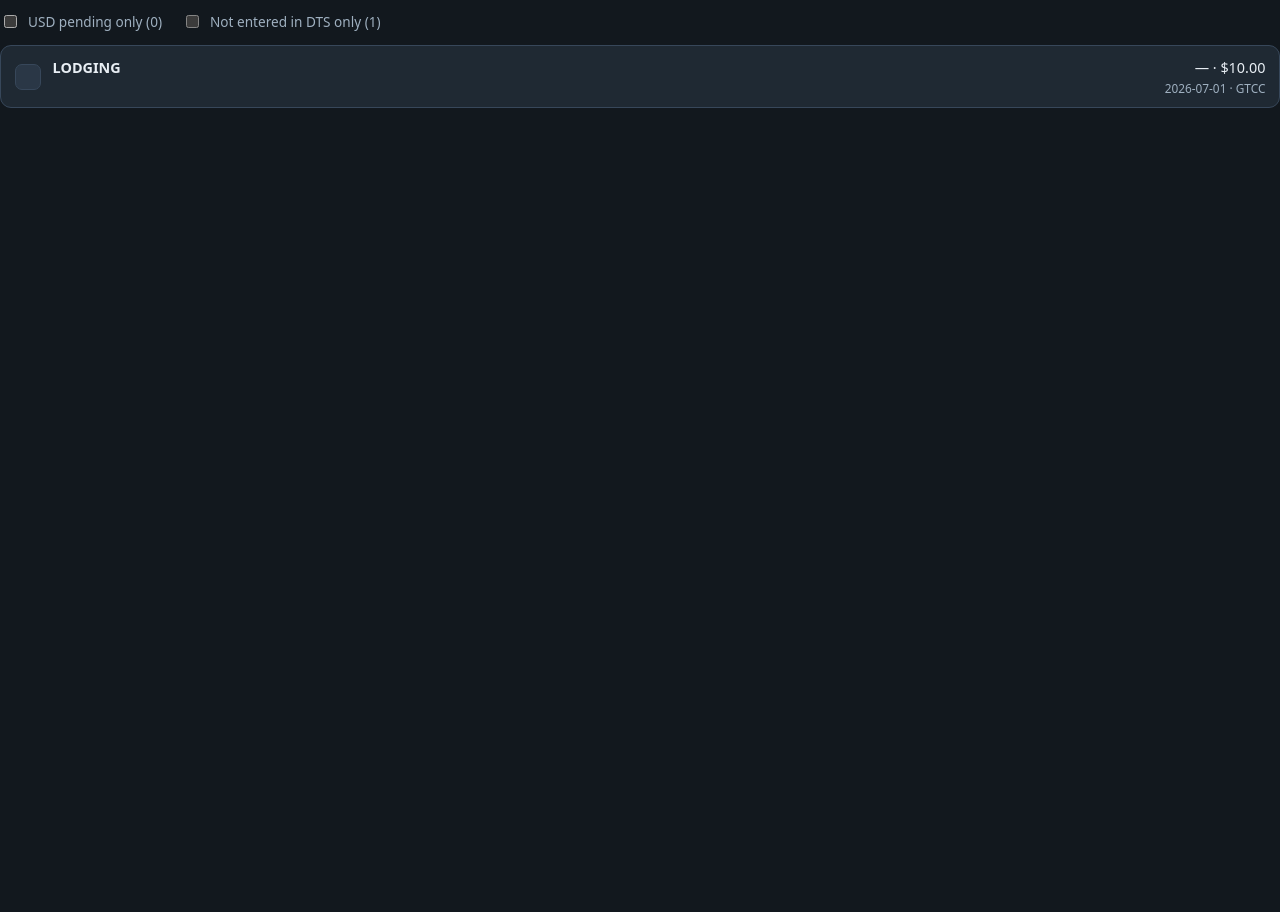
ExpenseList — entered-in-DTS › opens the editor when the row body is clicked
The image size is (1280, 912).
Click the text "LODGING" at [87, 67], box [53,58,121,77]
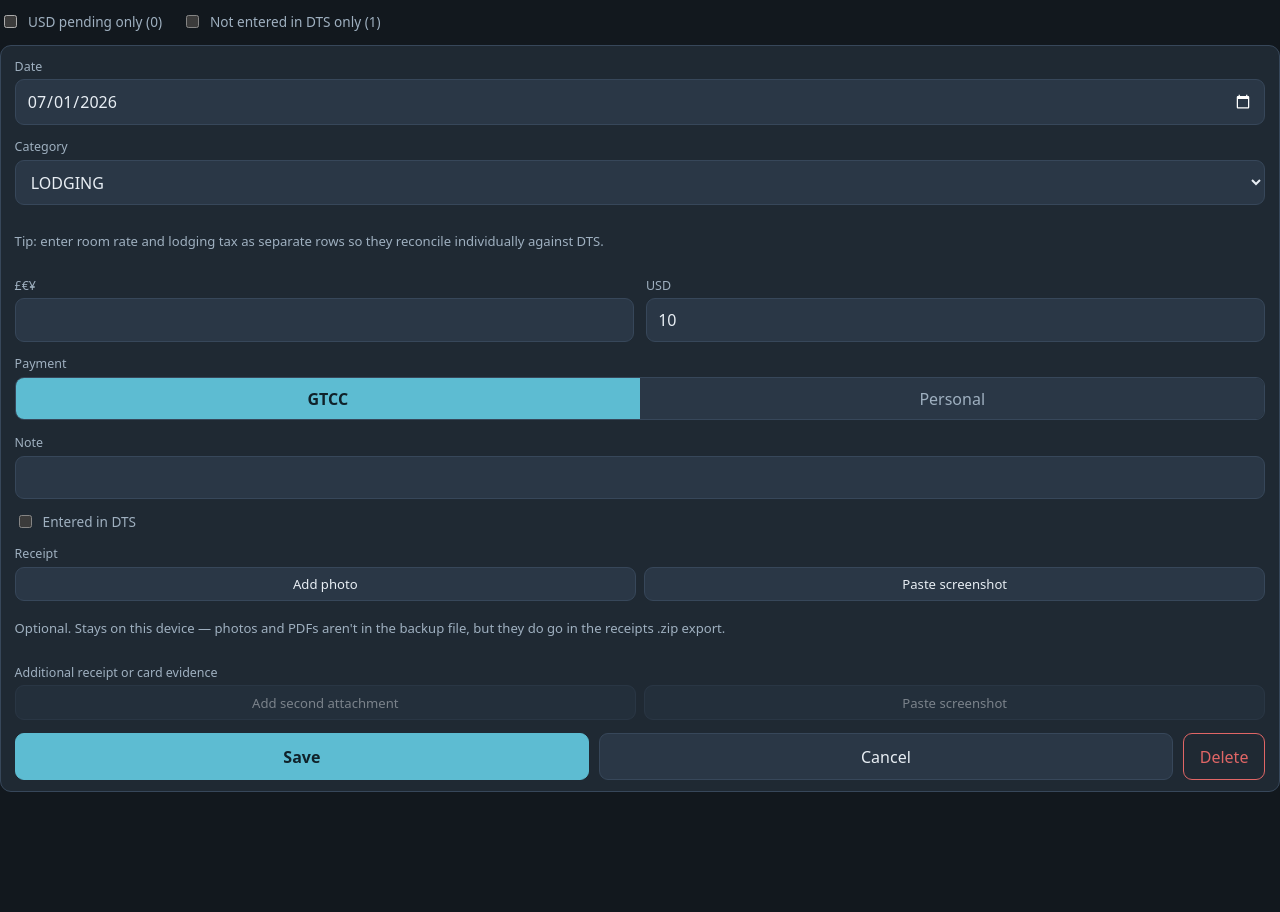
Check: the button "Save" is shown, box [15,733,589,780]
